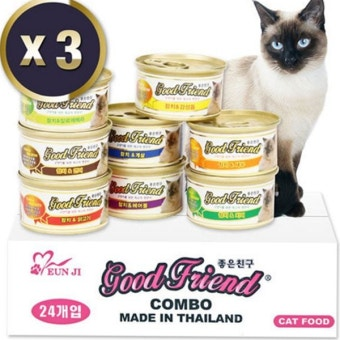paper: (131, 54, 224, 125), (21, 66, 111, 128), (191, 167, 279, 230), (14, 176, 111, 233), (106, 100, 186, 168), (185, 116, 276, 175), (15, 124, 109, 178), (107, 162, 187, 224)
